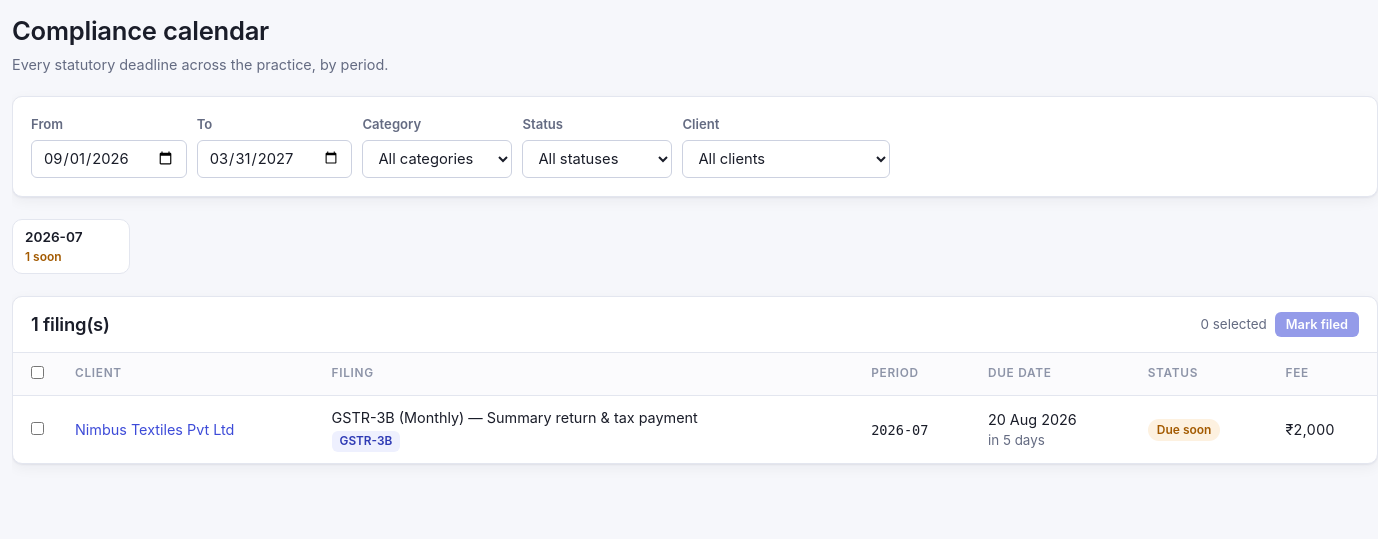
Test case: Compliance calendar › a selection that would re-date work already filed › says nothing extra when every filing took the batch date
The image size is (1378, 539).
Click the checkbox named "Select GSTR-3B (Monthly)" at (38, 428), box [31,422,44,435]
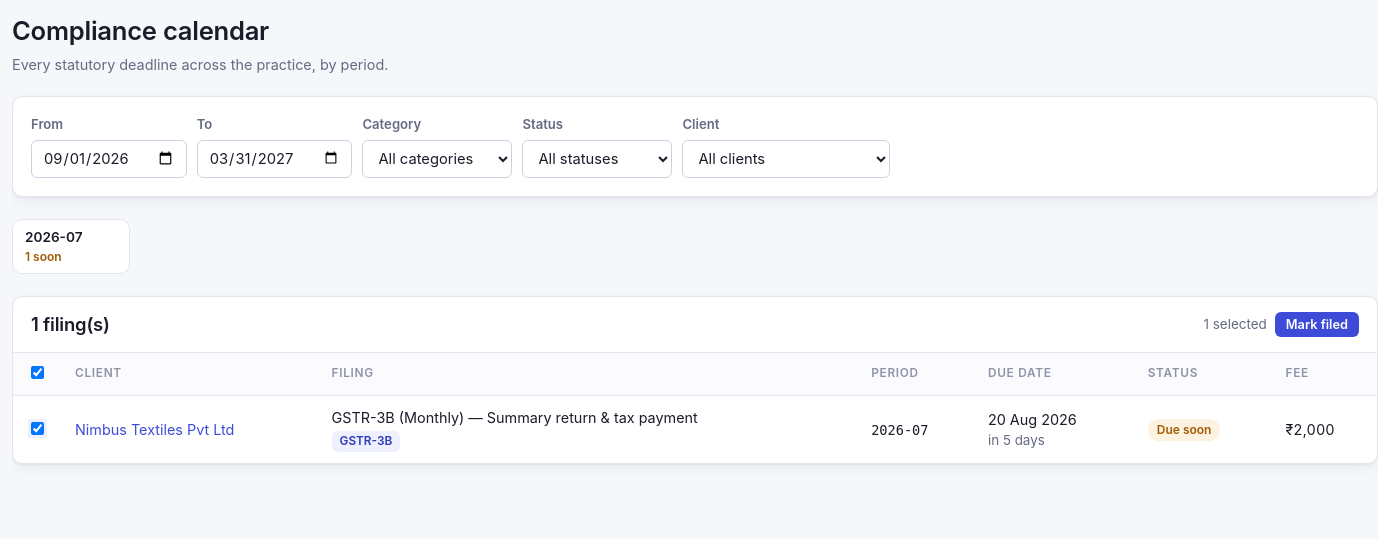
Click the button "Mark filed" at (1317, 324), box [1275,312,1359,337]
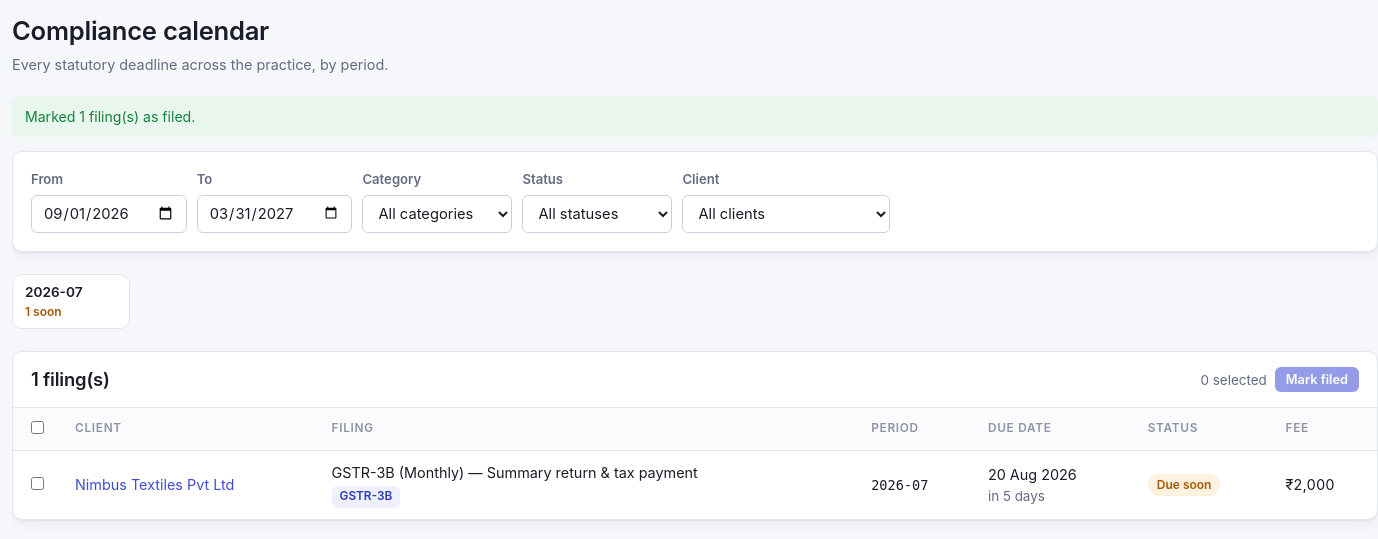
Now the text "Marked 1 filing(s) as filed." is shown, box [25,106,195,127]
